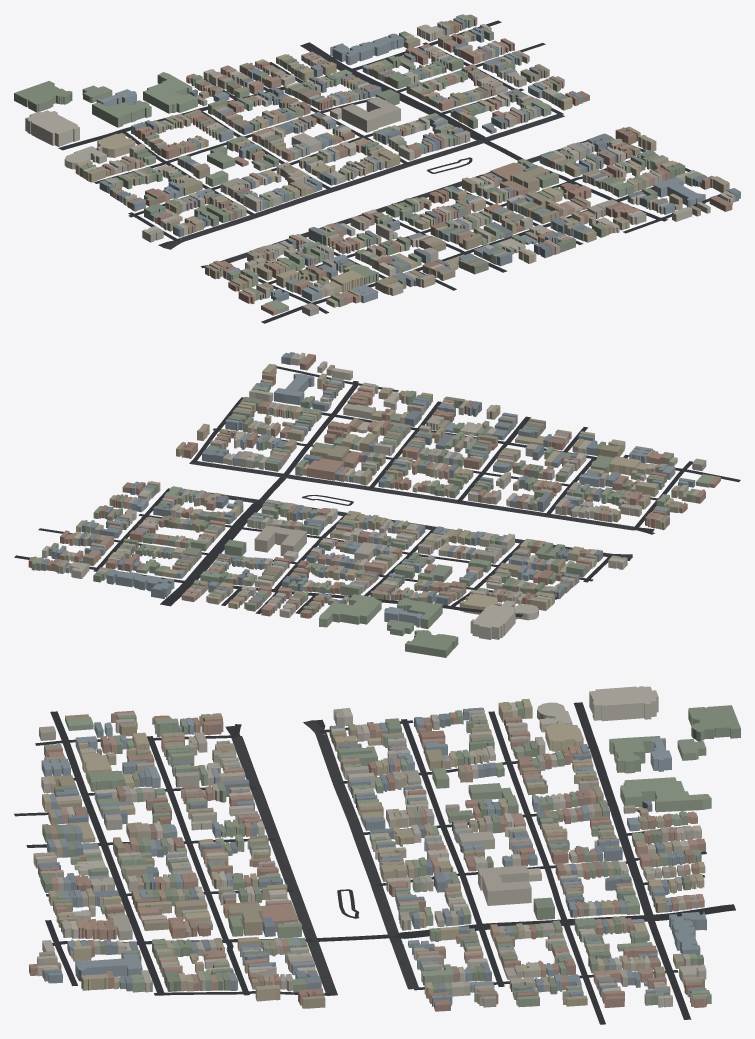
Rendered from tile_8_13.glb.
The picture shows the model from 3 angles, top to bottom: view 1: azimuth 30°, elevation 25°; view 2: azimuth 150°, elevation 25°; view 3: azimuth 270°, elevation 25°; orthographic projection. The views are drawn at different scales.
Parts seen in each view (by area): view 1: bld_8_13, road_8_13; view 2: bld_8_13, road_8_13; view 3: bld_8_13, road_8_13.
Part boxes in pixels (box(x1,y1,x2,y2)): bld_8_13: box(14, 14, 740, 316); road_8_13: box(58, 20, 719, 323); bld_8_13: box(28, 352, 720, 657); road_8_13: box(14, 366, 740, 617); bld_8_13: box(29, 686, 740, 1011); road_8_13: box(14, 702, 735, 1024).
Bounding box in the file's own units: 870 × 56 × 884.
